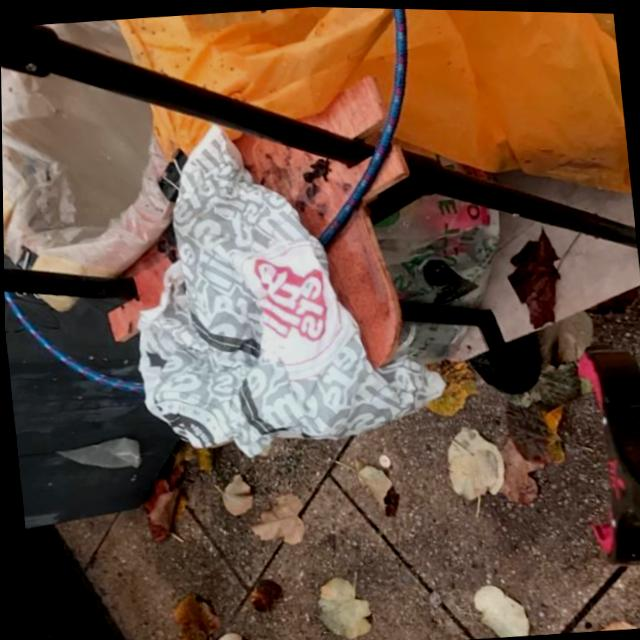Paper: (113, 103, 453, 474)
